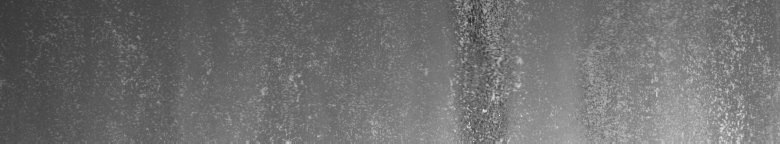hc: (456, 4, 521, 133)
